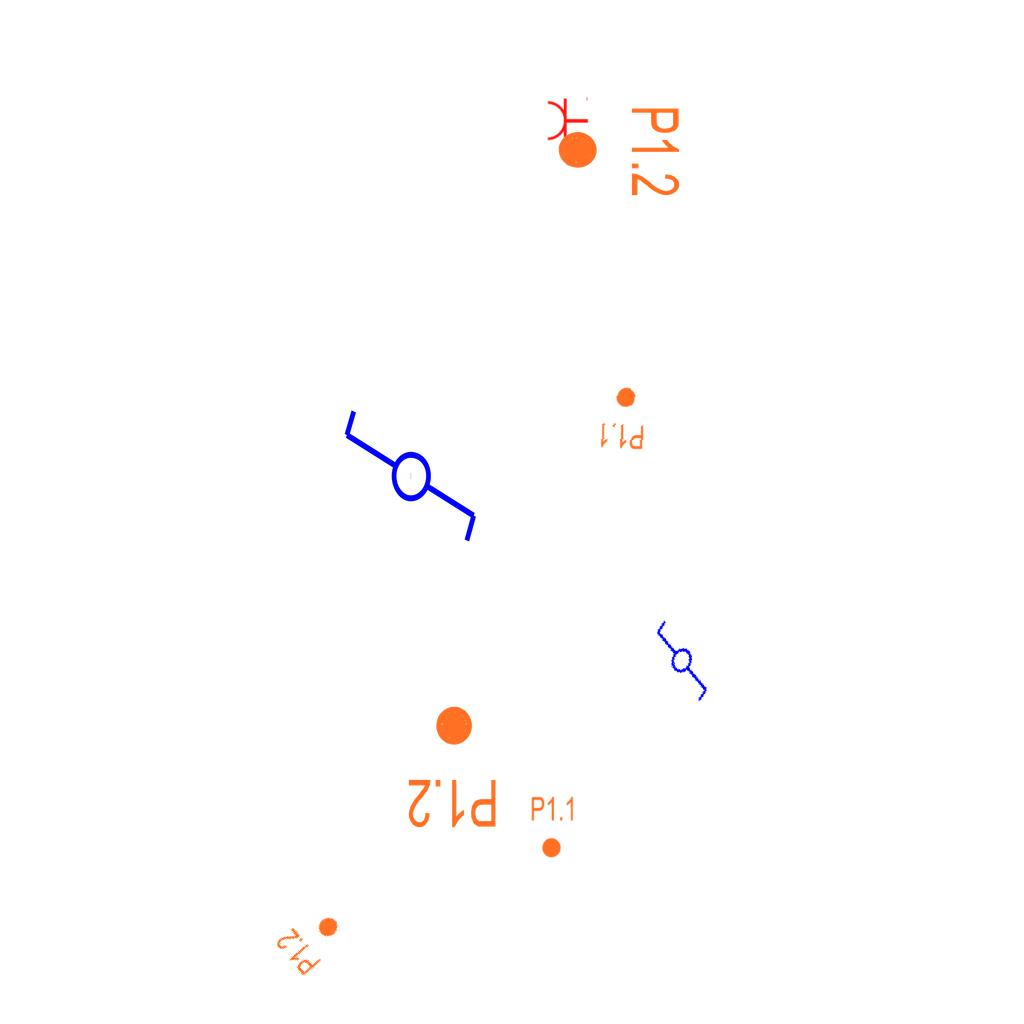Downlight_LED_Einbauleuchten_Flur: (406, 703, 499, 831), (555, 105, 683, 198), (272, 901, 352, 979), (597, 384, 649, 452), (530, 795, 576, 859)
Schukosteckdose_einfach: (546, 95, 589, 145)
Wechselschalter: (337, 406, 481, 563), (637, 608, 731, 706)
